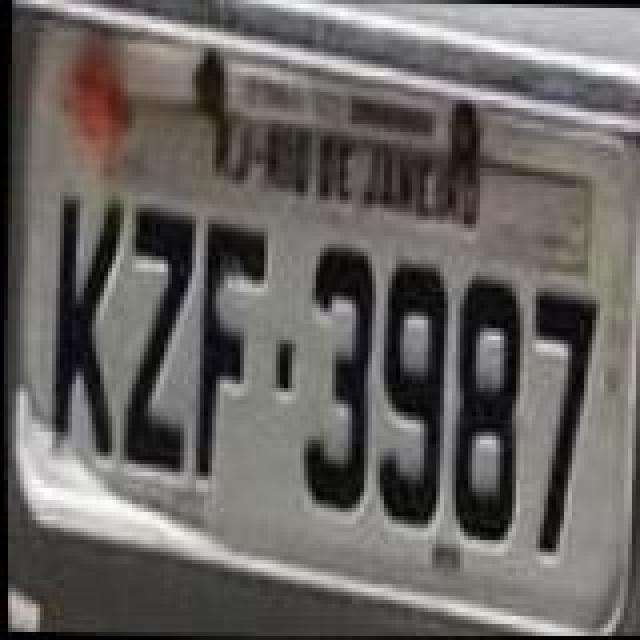3: (296, 238, 380, 510)
7: (520, 284, 600, 556)
8: (442, 276, 526, 548)
9: (368, 258, 452, 530)
F: (184, 210, 268, 482)
K: (42, 194, 126, 462)
Z: (114, 202, 198, 474)
